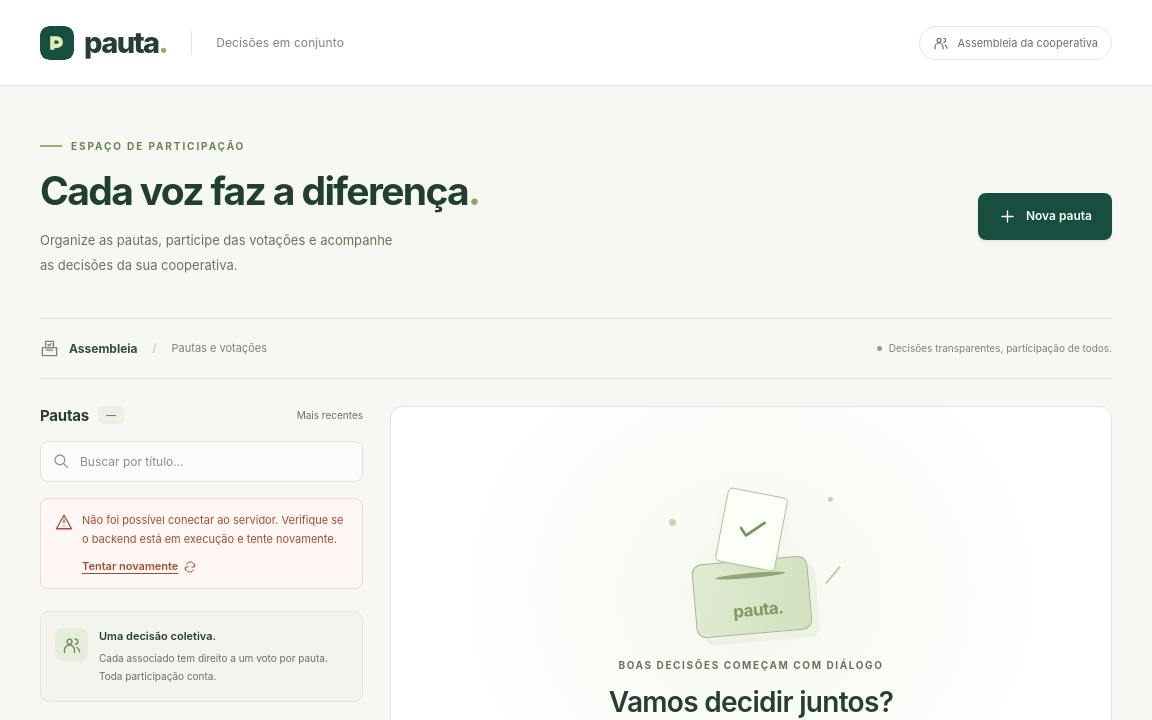
Test: fluxos da assembleia › permite recuperar a listagem depois de uma falha de rede
The width and height of the screenshot is (1152, 720).
Expected: the message shows "Não foi possível conectar ao servidor", [82, 513, 344, 546]
Click the button "Tentar novamente": [140, 566] box [82, 557, 197, 576]
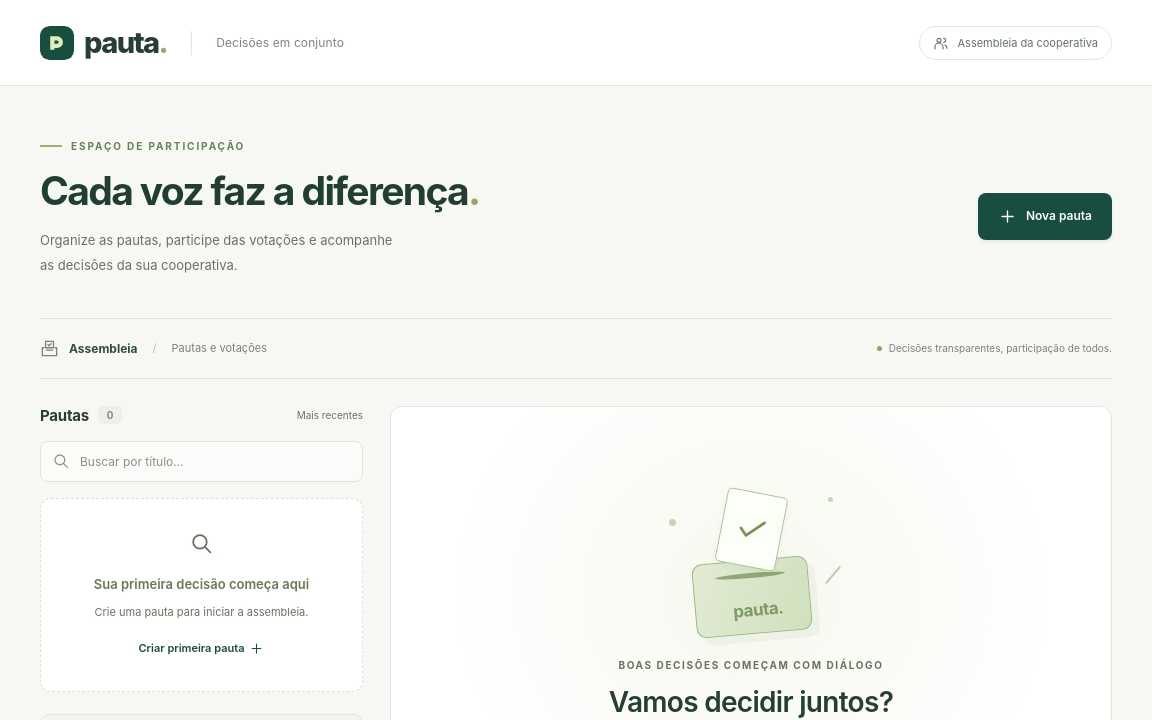
Expected: the heading "Sua primeira decisão começa aqui" is shown, [94, 576, 309, 592]
Expected: the message is gone
